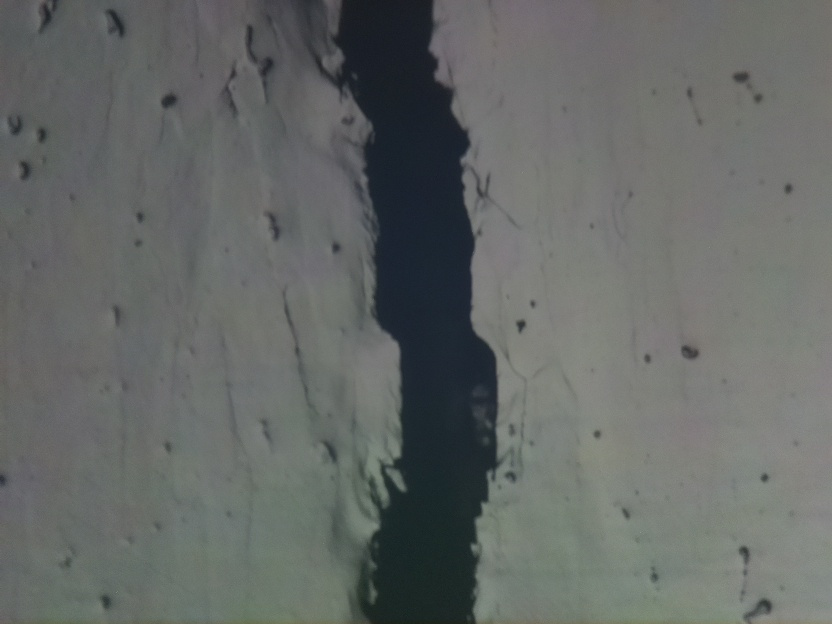crack: (341, 0, 500, 623)
